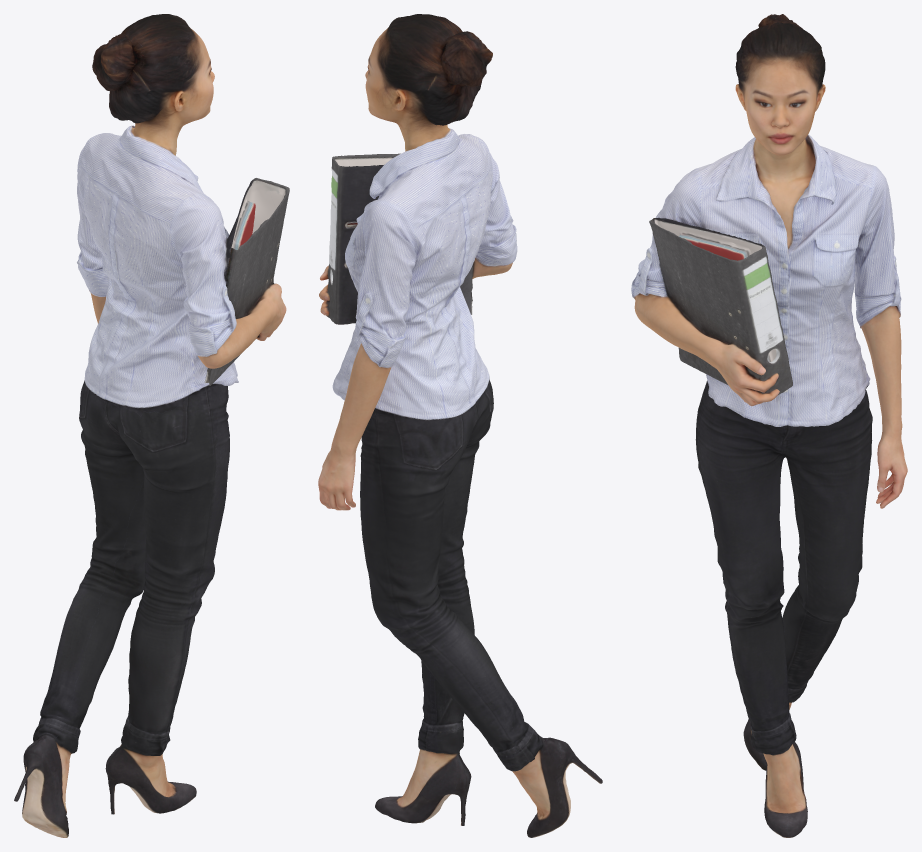
Rendered from mei_posed_001_-_female_walking_business_model (1).glb.
3 views of the same model, side by side, from view 1: azimuth 30°, elevation 25°; view 2: azimuth 150°, elevation 25°; view 3: azimuth 270°, elevation 25° (orthographic).
Parts seen in each view (by area): view 1: Object_3; view 2: Object_3; view 3: Object_3.
Boxes of the visible parts, <box> form: Object_3: <box>14,14,289,837</box>; Object_3: <box>318,14,602,837</box>; Object_3: <box>631,14,907,837</box>.
Bounding box in the file's own units: 61.16 × 170 × 53.64.
1 material, 1 textured.
